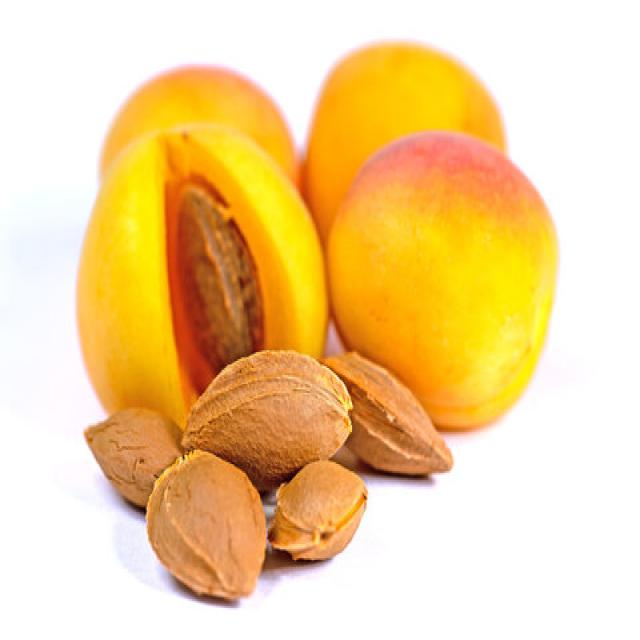cekirdek: (155, 455, 266, 609), (192, 366, 348, 474), (325, 352, 444, 491), (172, 188, 250, 370), (284, 460, 374, 572), (75, 402, 189, 488)
kayisi: (318, 41, 570, 433), (106, 66, 318, 433)
